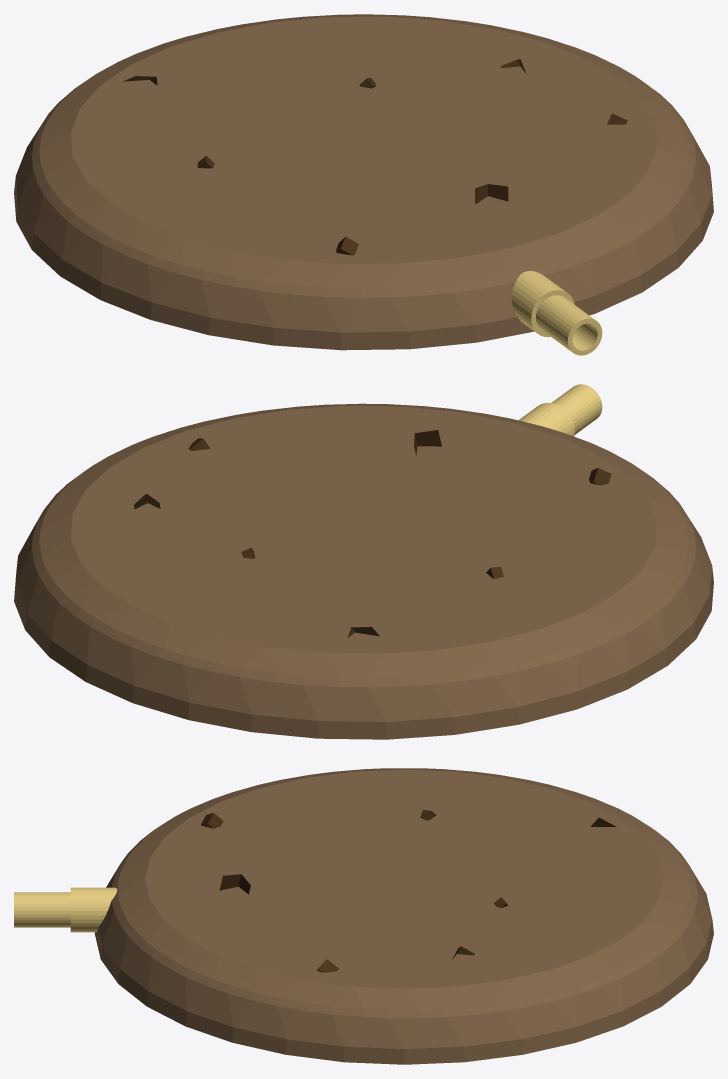
Rendered from CookiePlayerModel.fbx.
The picture shows the model from 3 angles, top to bottom: view 1: azimuth 30°, elevation 25°; view 2: azimuth 150°, elevation 25°; view 3: azimuth 270°, elevation 25°; orthographic projection. The views are drawn at different scales.
Parts seen in each view (by area): view 1: Sphere, Cylinder.001, Cylinder, chocolateChips; view 2: Sphere, chocolateChips, Cylinder.001, Cylinder; view 3: Sphere, Cylinder.001, Cylinder, chocolateChips.
Part boxes in pixels (x1,y1,x2,y2): Sphere: (14, 14, 713, 350); Cylinder.001: (536, 295, 602, 355); Cylinder: (511, 271, 574, 337); chocolateChips: (123, 59, 627, 255); Sphere: (14, 403, 713, 739); chocolateChips: (134, 430, 611, 637); Cylinder.001: (551, 384, 602, 434); Cylinder: (518, 402, 574, 436); Sphere: (94, 768, 713, 1064); Cylinder.001: (14, 892, 70, 927); Cylinder: (70, 887, 117, 932); chocolateChips: (201, 809, 616, 972).
Bounding box in the file's own units: 200 × 25.09 × 226.
